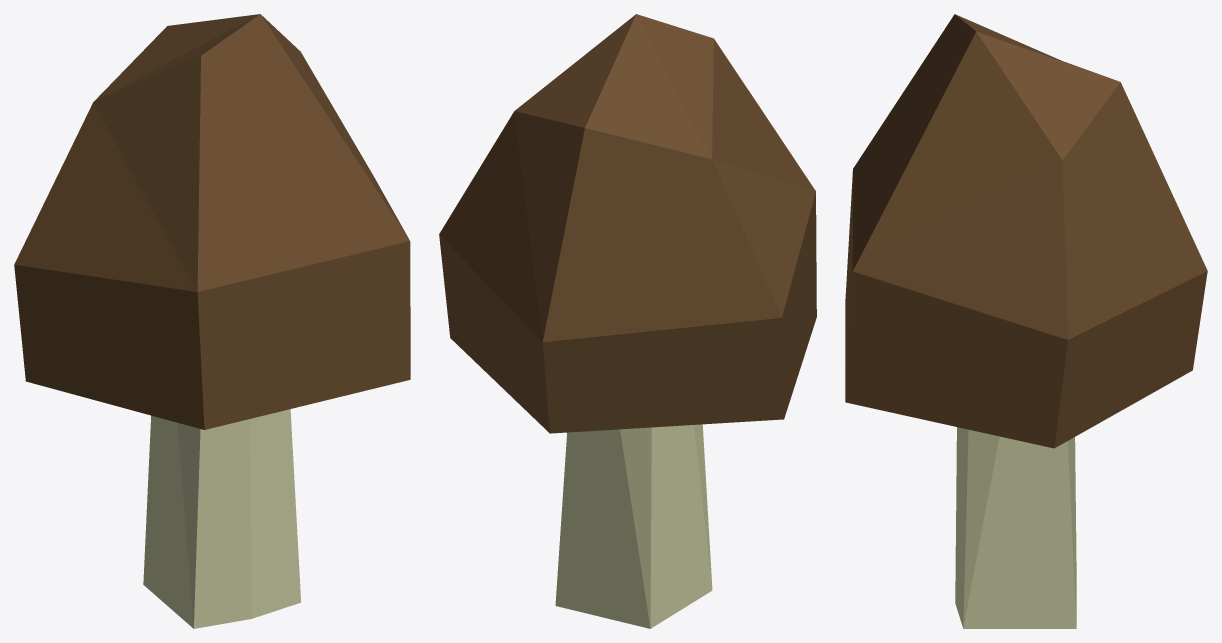
Rendered from Mushroom2.fbx.
3 views of the same model, side by side, from view 1: azimuth 30°, elevation 25°; view 2: azimuth 150°, elevation 25°; view 3: azimuth 270°, elevation 25° (orthographic). The views are drawn at different scales.
Visible parts, largest first — view 1: Cone.001, Cube.001; view 2: Cone.001, Cube.001; view 3: Cone.001, Cube.001.
Part boxes in pixels (left/top/right/bottom): Cone.001: left=14, top=14, right=410, bottom=429; Cube.001: left=143, top=409, right=300, bottom=628; Cone.001: left=439, top=14, right=816, bottom=433; Cube.001: left=555, top=424, right=712, bottom=628; Cone.001: left=845, top=14, right=1207, bottom=448; Cube.001: left=955, top=427, right=1076, bottom=628.
Bounding box in the file's own units: 673 × 1058 × 598.
